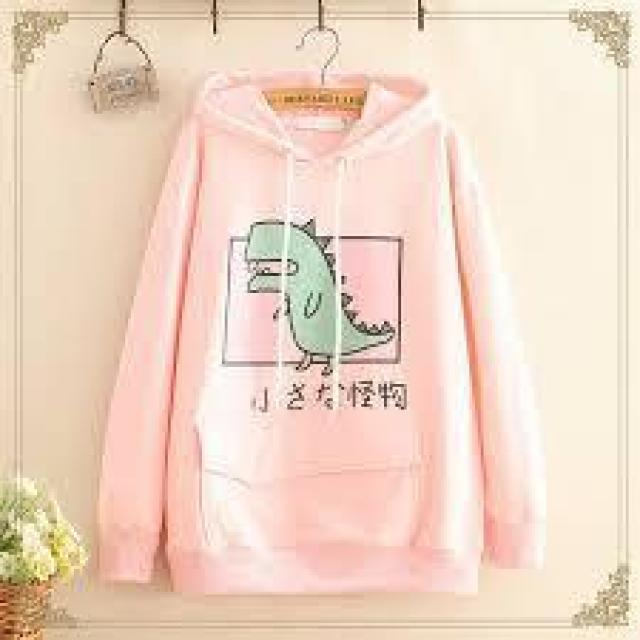sweater: (91, 71, 538, 589)
